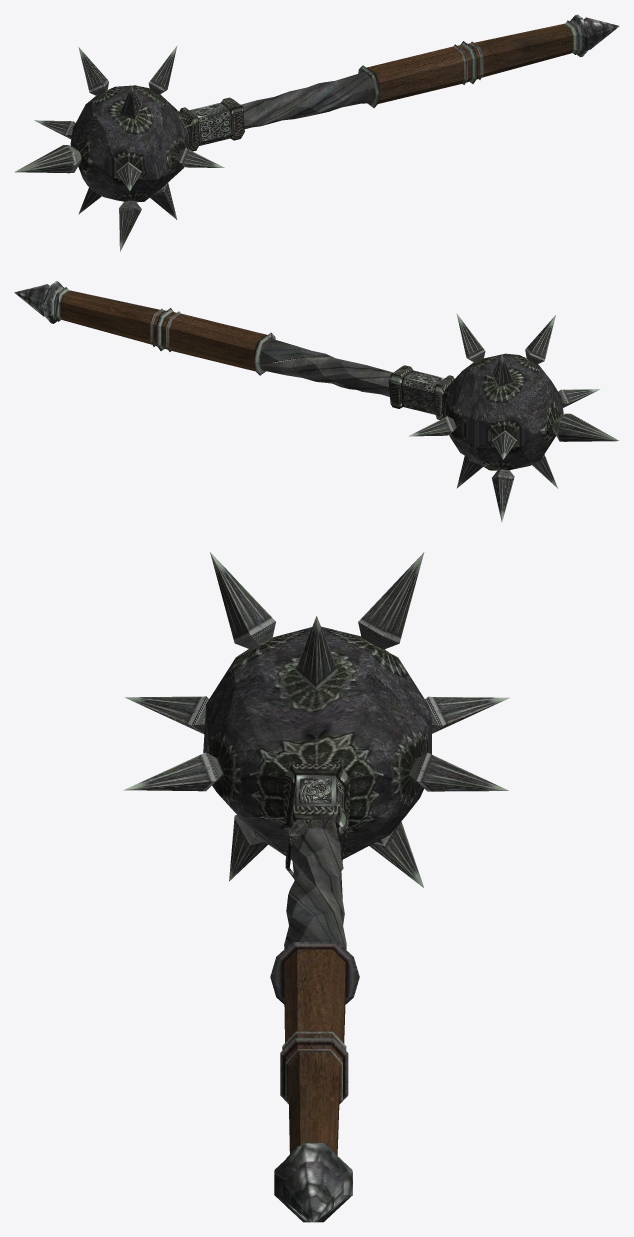
The model's file is ITMW_NAGELKEULE_NEW.glb.
The picture shows the model from 3 angles, top to bottom: view 1: azimuth 30°, elevation 25°; view 2: azimuth 150°, elevation 25°; view 3: azimuth 270°, elevation 25°; orthographic projection. The views are drawn at different scales.
Parts seen in each view (by area): view 1: ITMW_NAGELKEULE_NEW; view 2: ITMW_NAGELKEULE_NEW; view 3: ITMW_NAGELKEULE_NEW.
Boxes of the visible parts, x1=… form: ITMW_NAGELKEULE_NEW: x1=14, y1=14, x2=619, y2=251; ITMW_NAGELKEULE_NEW: x1=14, y1=281, x2=618, y2=522; ITMW_NAGELKEULE_NEW: x1=123, y1=552, x2=509, y2=1222.
Size of the model in its own units: 0.8641 by 0.2391 by 0.2396.
Materials: 1 (1 with a texture image).
